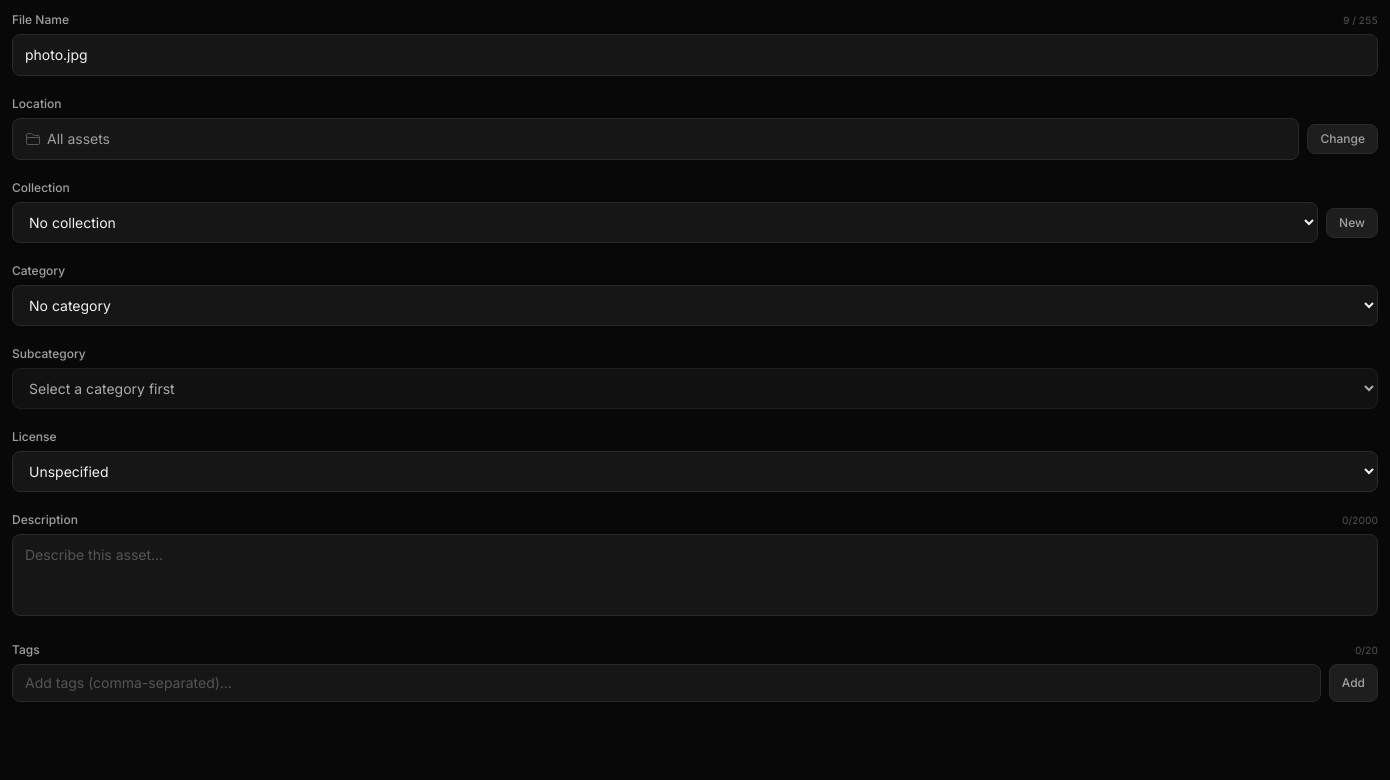
Test case: Step2MetadataForm — Collection field › shows an inline error and keeps the input open when creation fails
The width and height of the screenshot is (1390, 780).
Step 1. Click the button "New" → (1352, 222), box [1326, 208, 1378, 238]
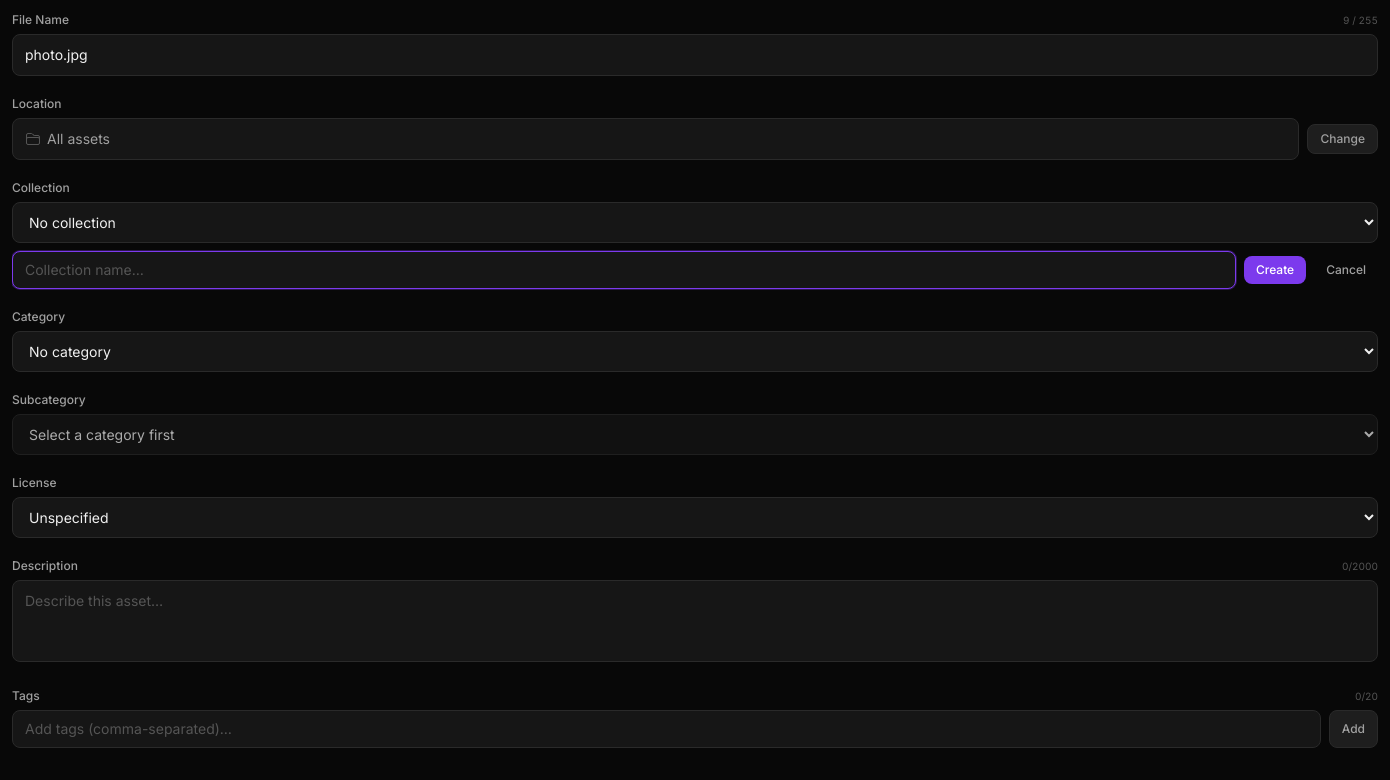
Step 2. Type "Racing Game" into the field with placeholder "Collection name…" → (624, 270), box [12, 251, 1236, 289]
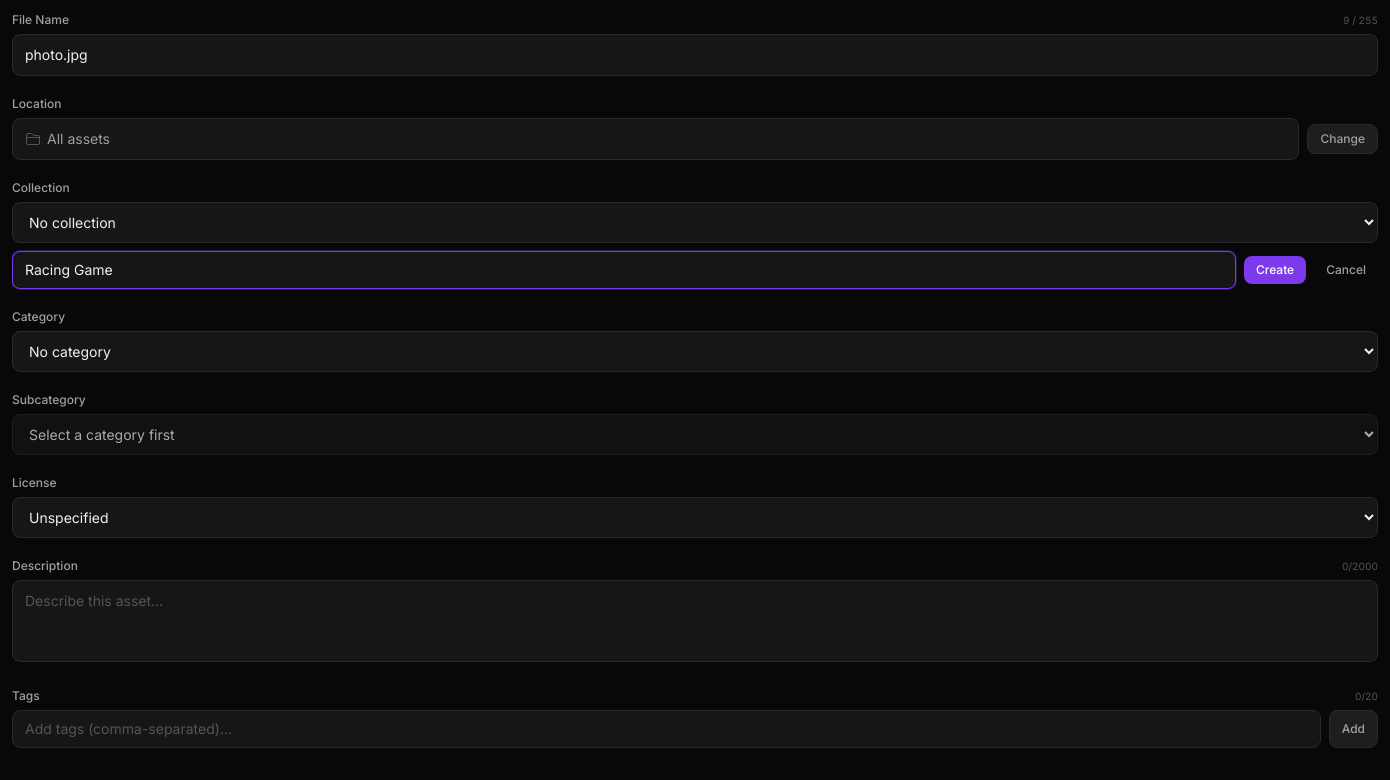
Step 3. Click the button "Create" → (1275, 270), box [1244, 256, 1306, 284]
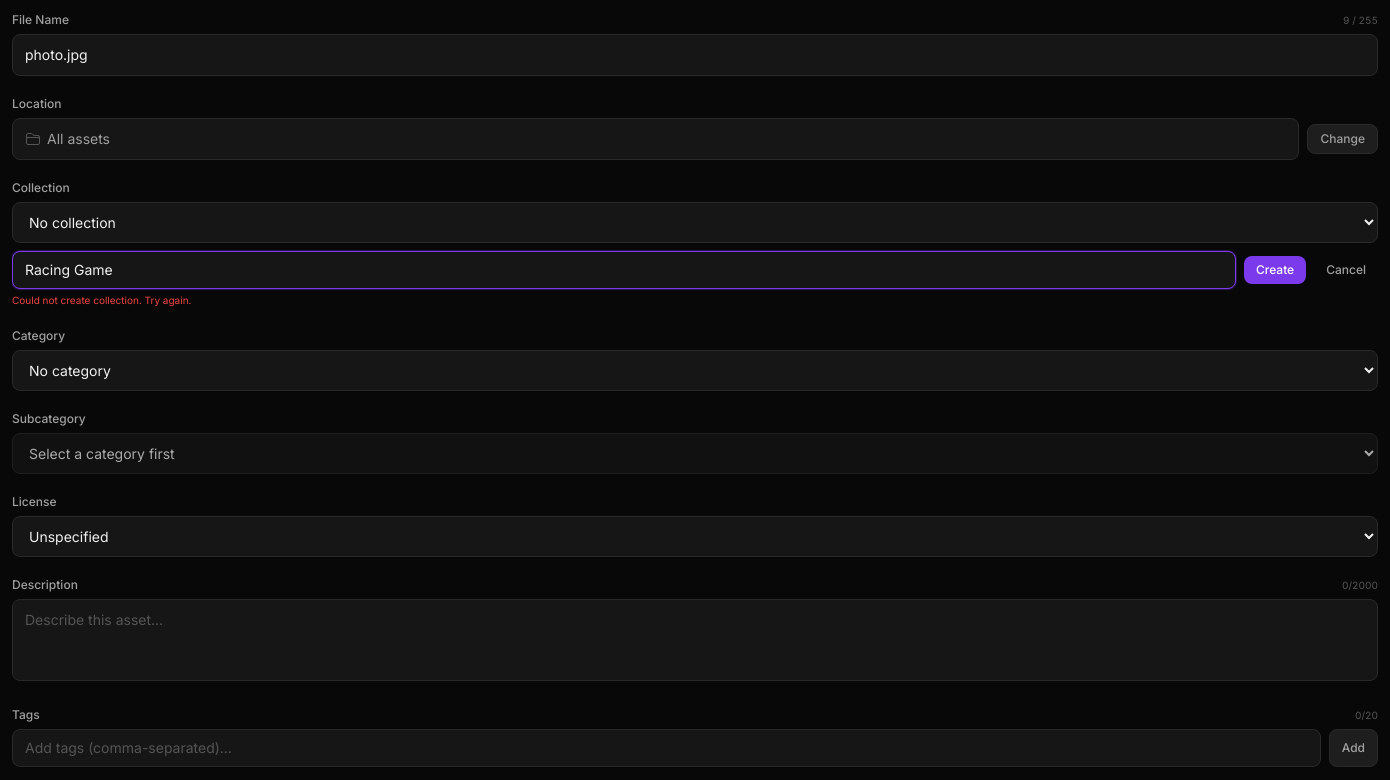
Result: the text "Could not create collection. Try again." is shown at [12, 294, 191, 306]
